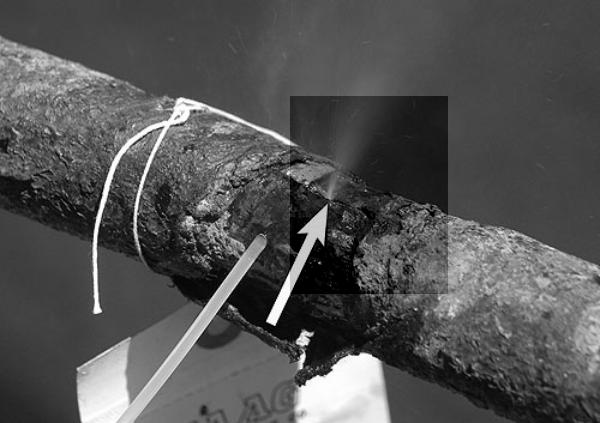gas: (290, 96, 448, 294)
